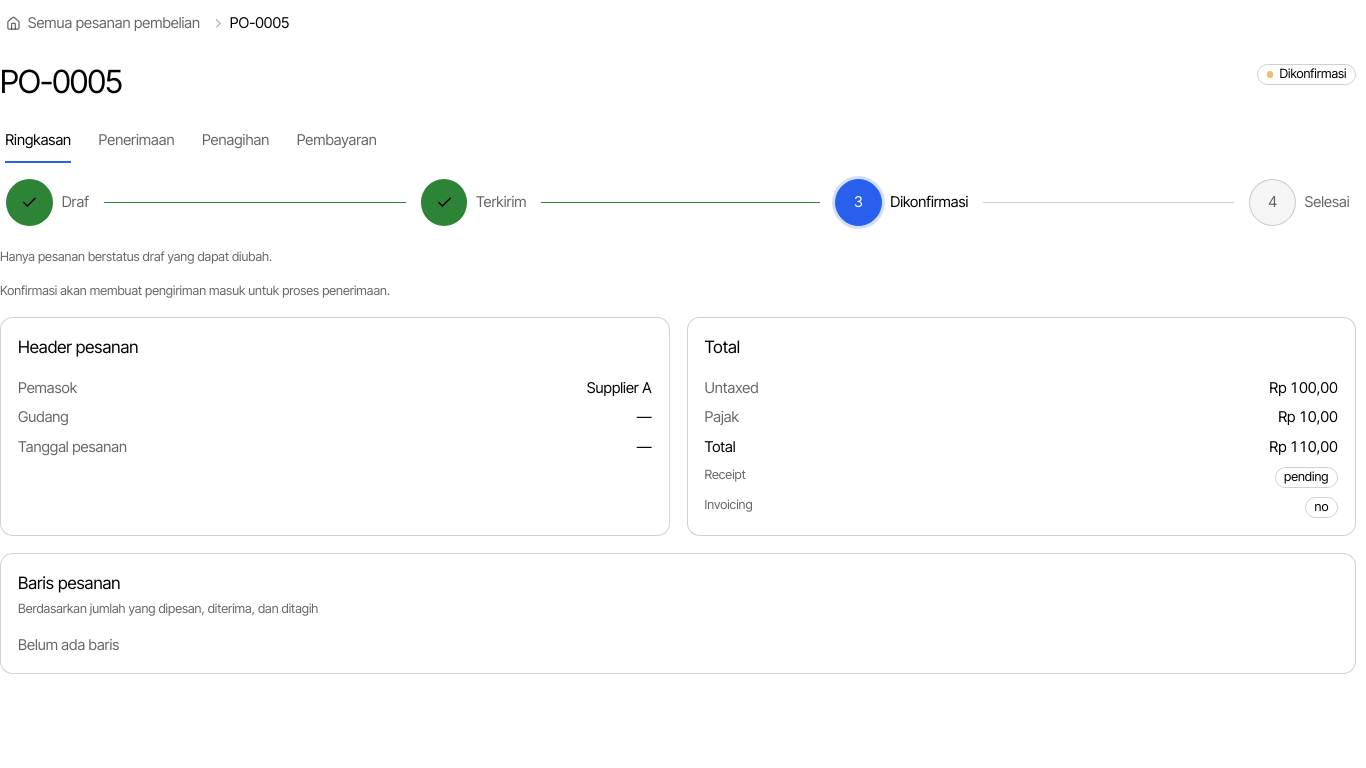
Scenario: PurchaseOrderDetail branches4 › opens the receive dialog from the receipt tab
Expected: the heading "PO-0005" is shown, [0,64,122,100]
Click the tab "Penerimaan" at (136, 141), box [98,117,175,164]
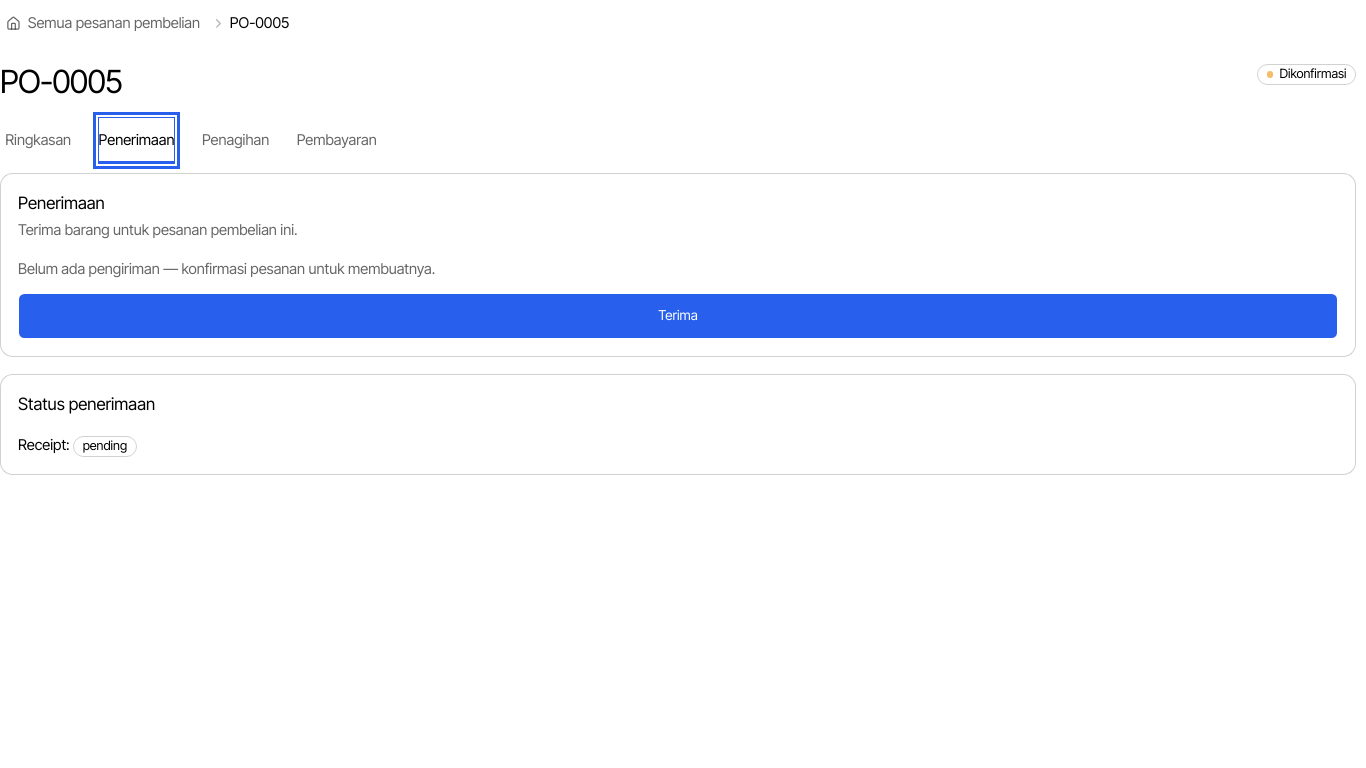
Click the button "Terima" at (678, 316), box [18,293,1338,340]
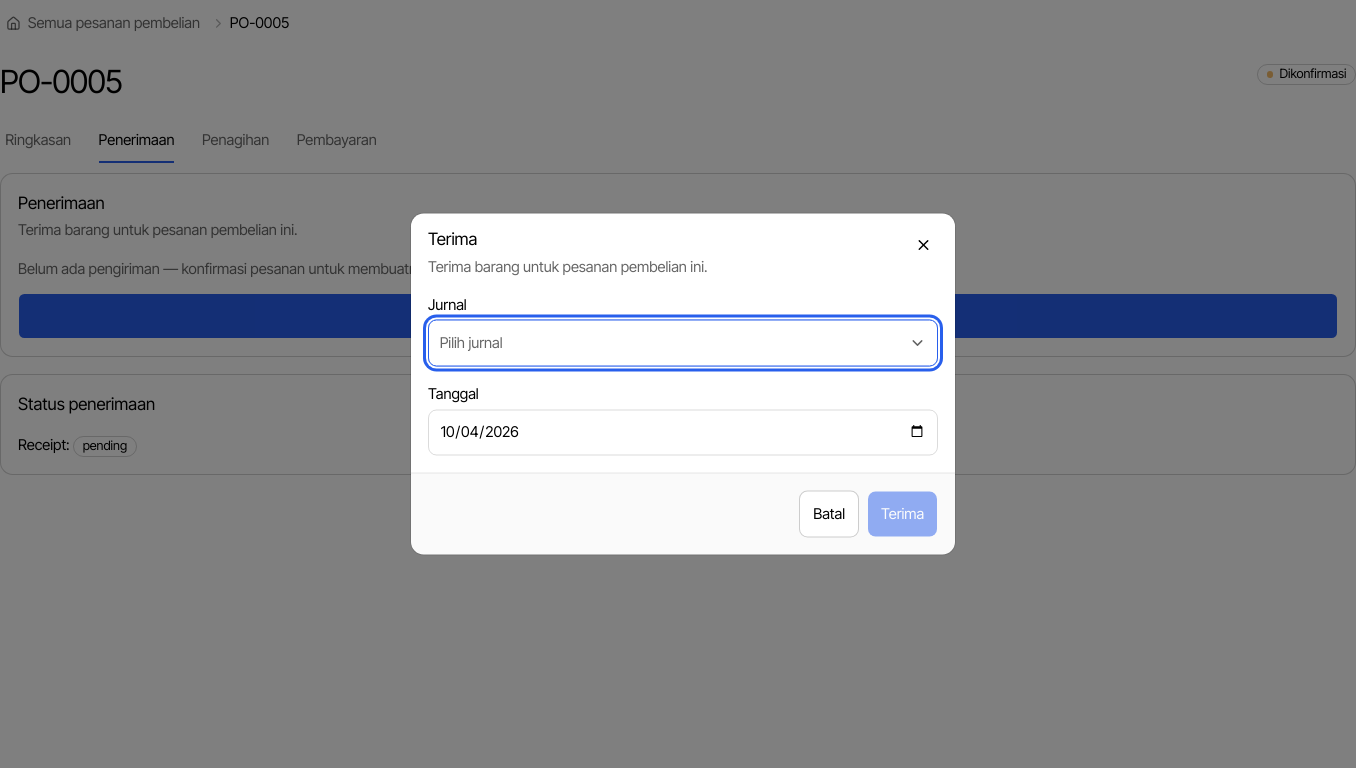
Expected: the dialog is shown, [411,214,955,554]
